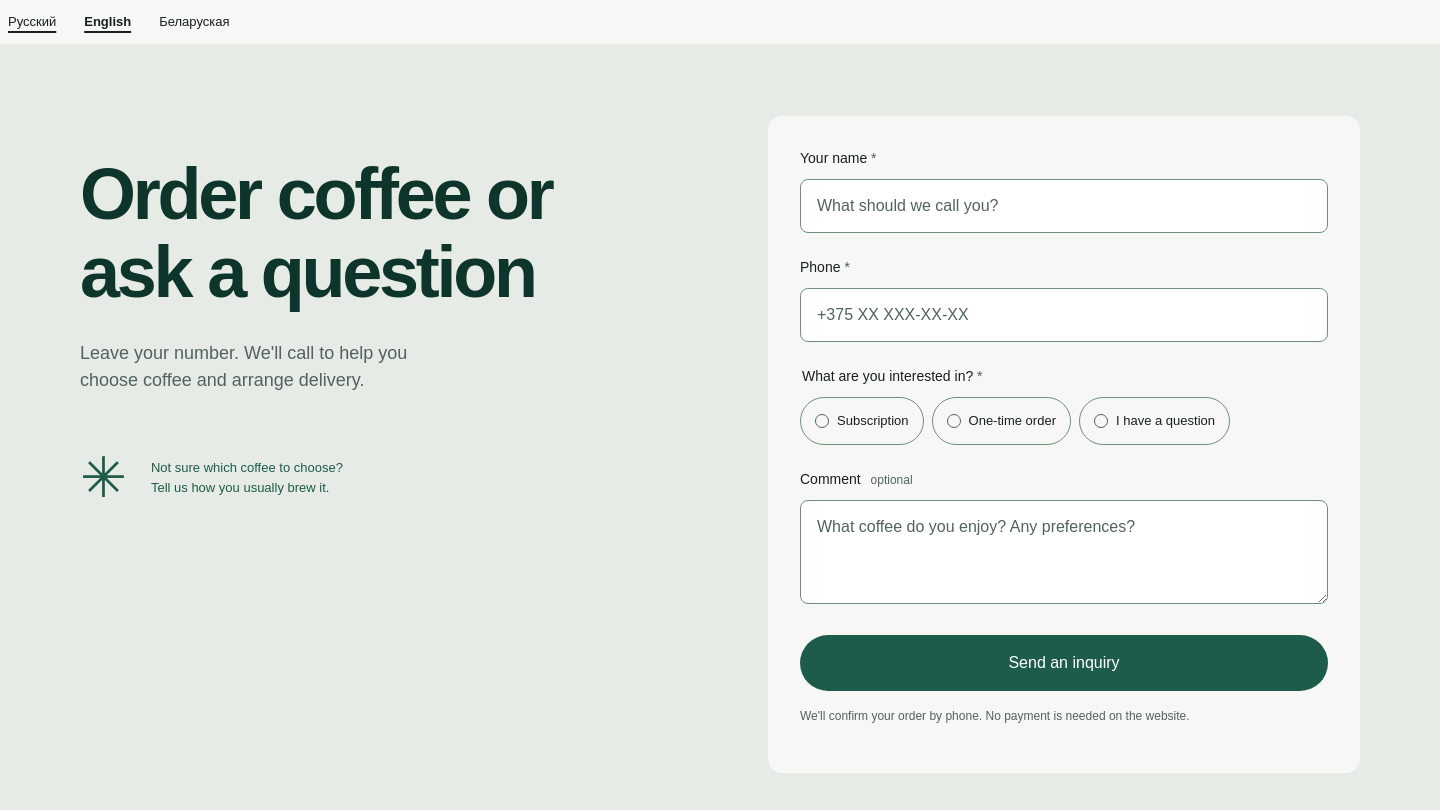
Test: renders complete form feedback in en
The width and height of the screenshot is (1440, 810).
Step 1. Type "Synthetic request" into the field labelled "Your name *" → (1064, 206), box [800,179,1328,233]
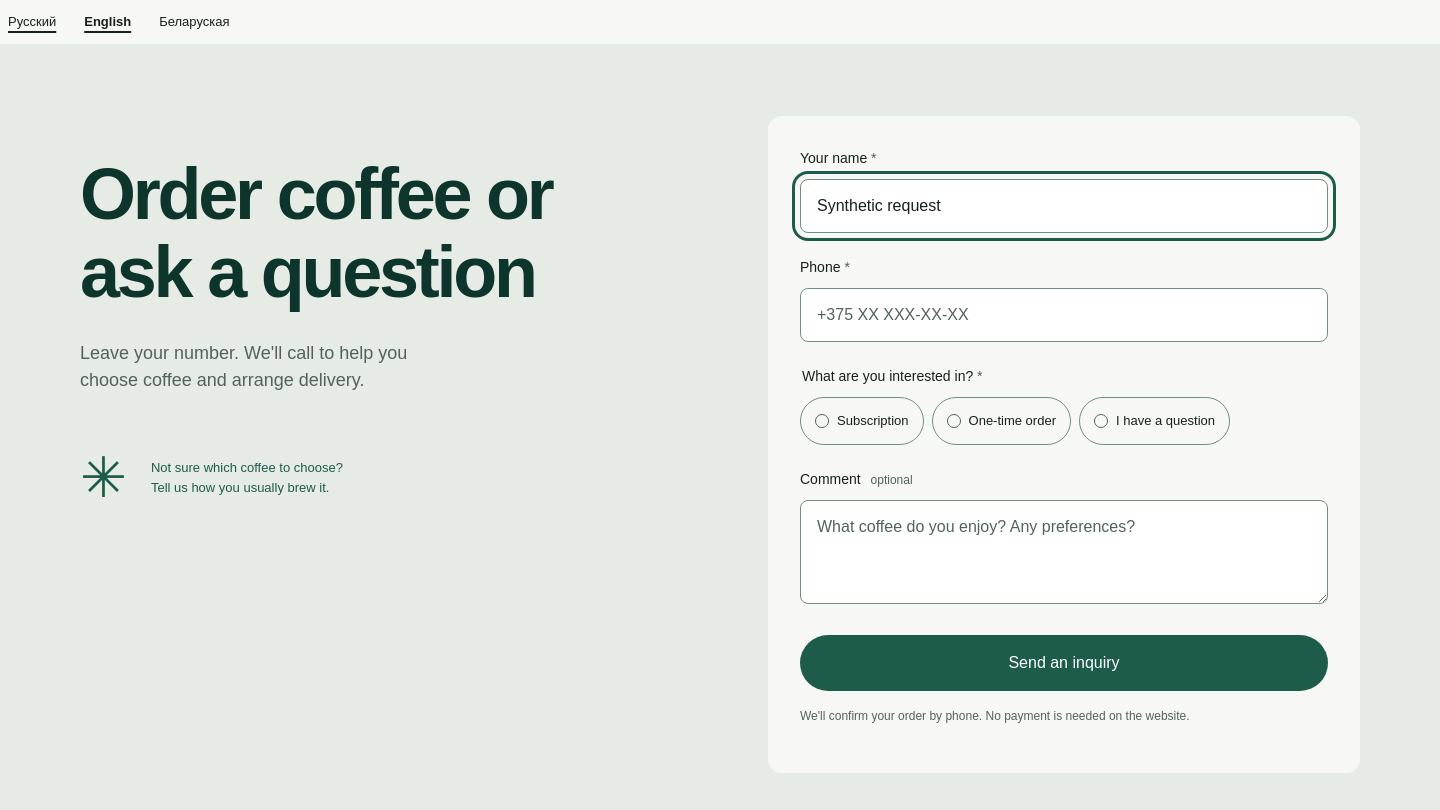
Step 2. Type "+375291234567" into the field labelled "Phone *" → (1064, 315), box [800,288,1328,342]
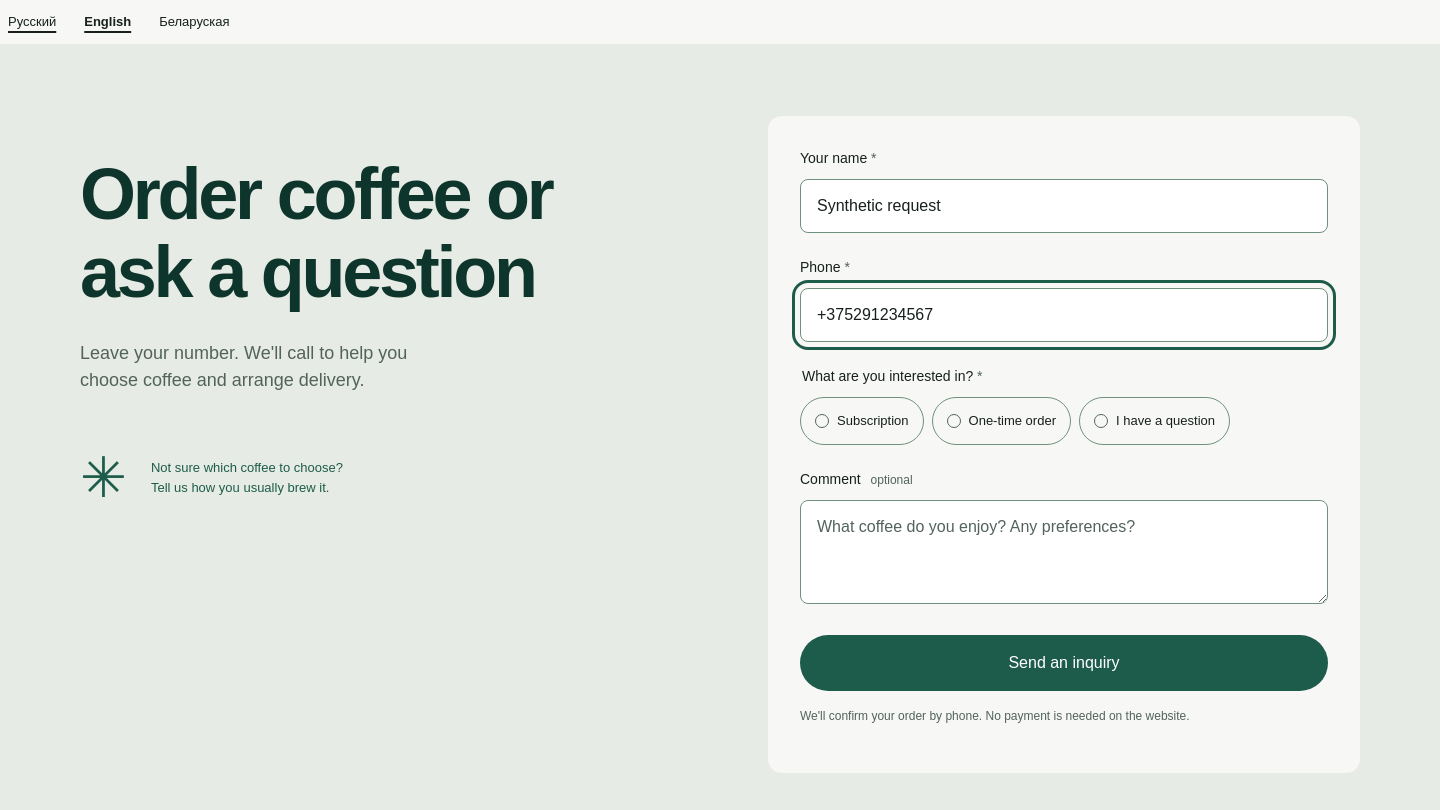
Step 3. Click the radio button labelled "I have a question" → (1154, 421), box [1079,397,1230,445]
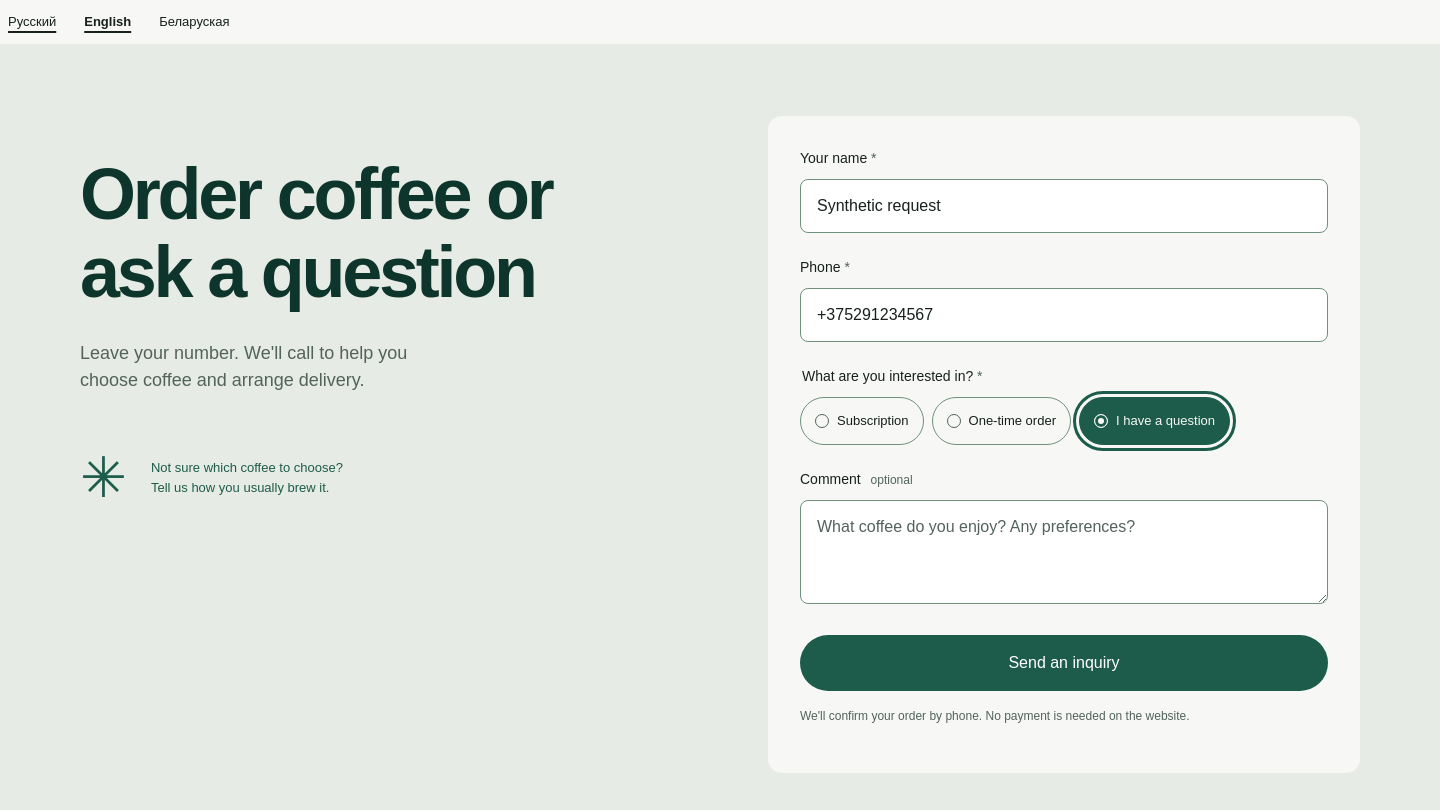
Step 4. Click the button "Send an inquiry" → (1064, 663), box [800,635,1328,691]
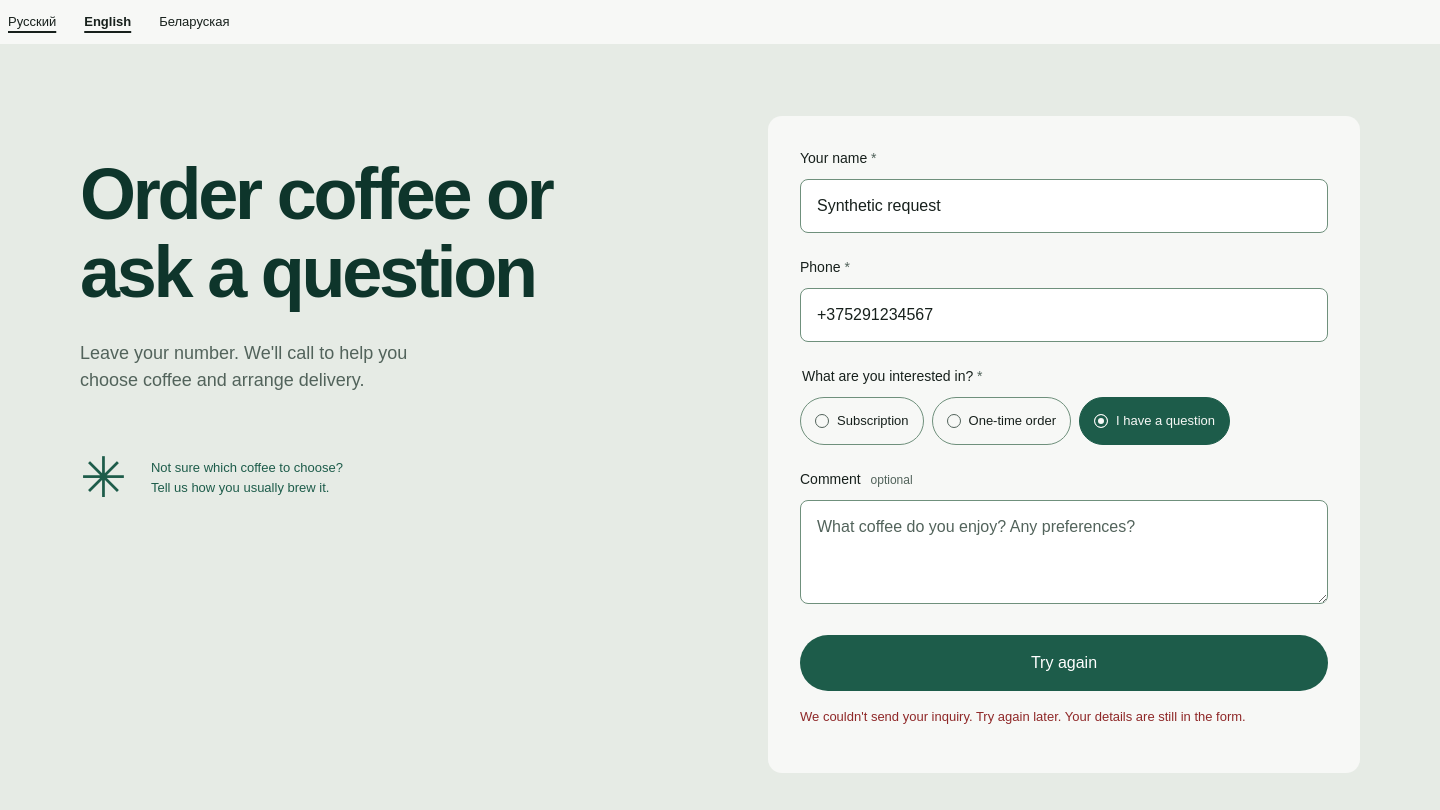
expect the text "We couldn't send your inquiry. Try again later. Your details are still in the form." is shown: met, box [800,709,1246,724]
expect the button "Try again" is shown: met, box [800,635,1328,691]
